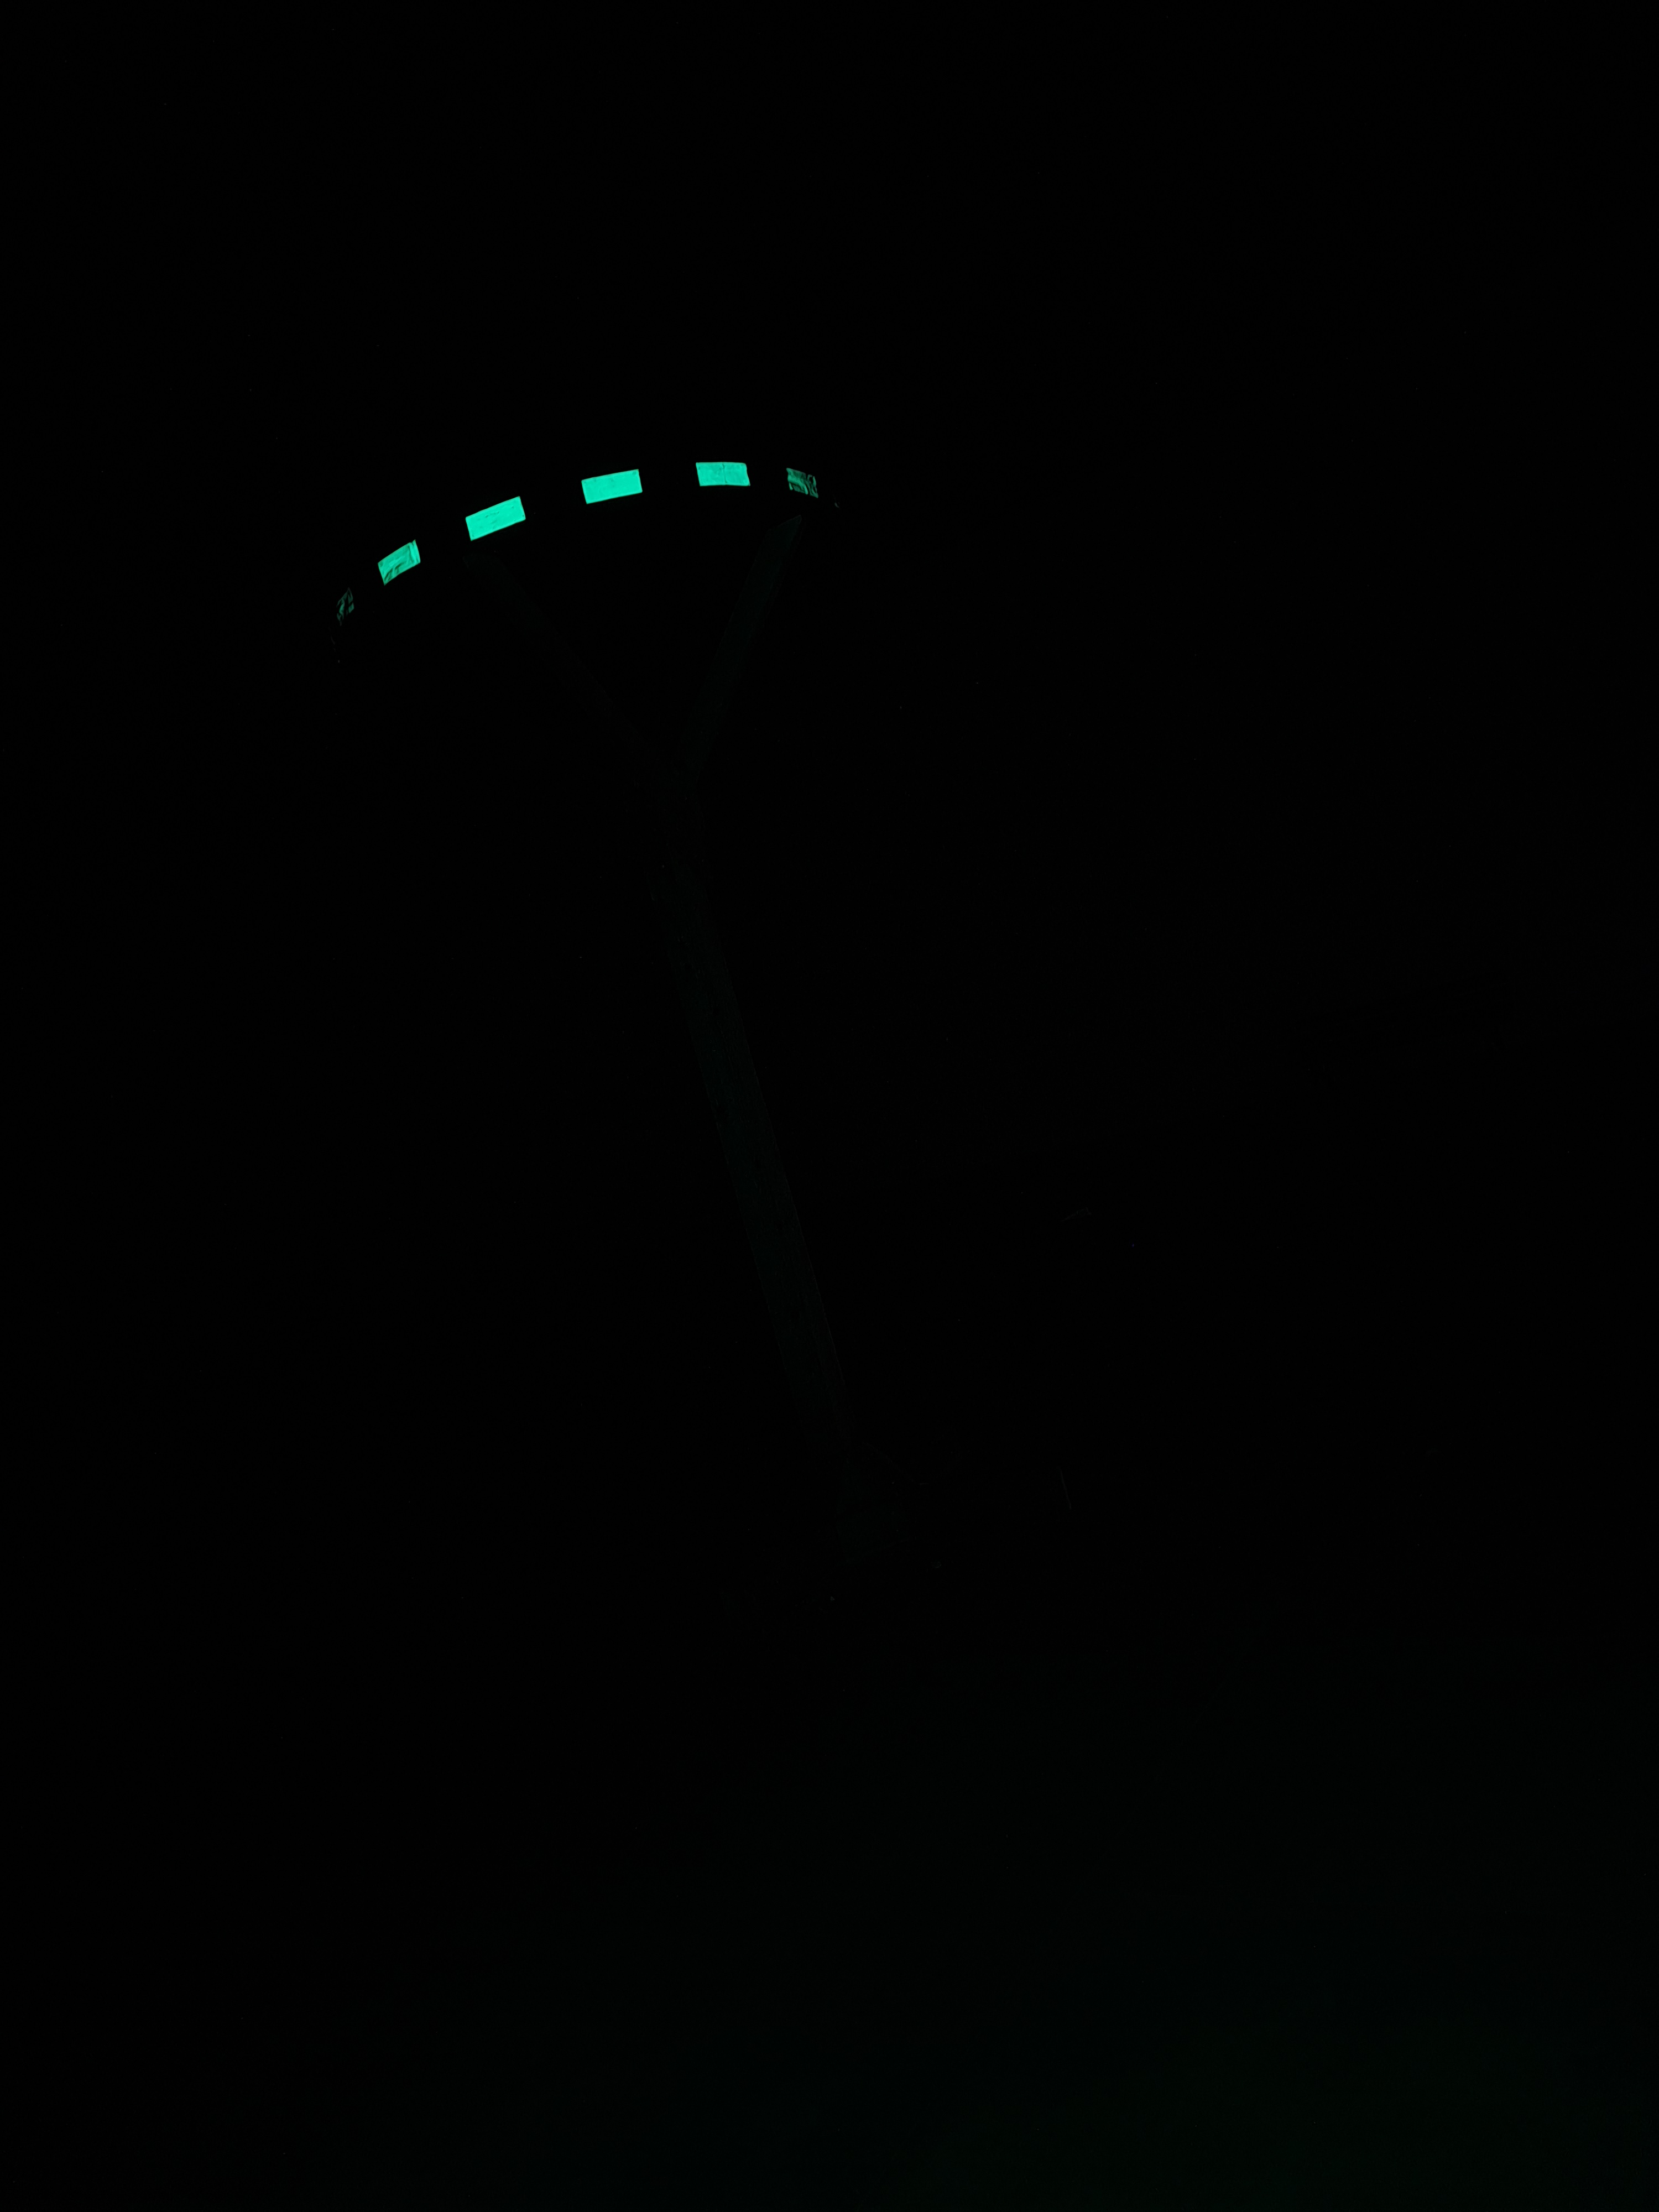hoop: (310, 455, 821, 632)
